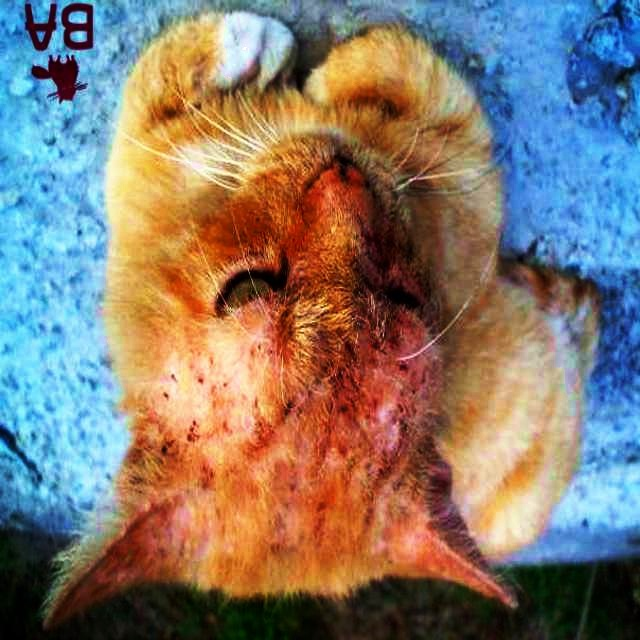ringworm: (335, 322, 415, 400), (357, 222, 399, 270)
